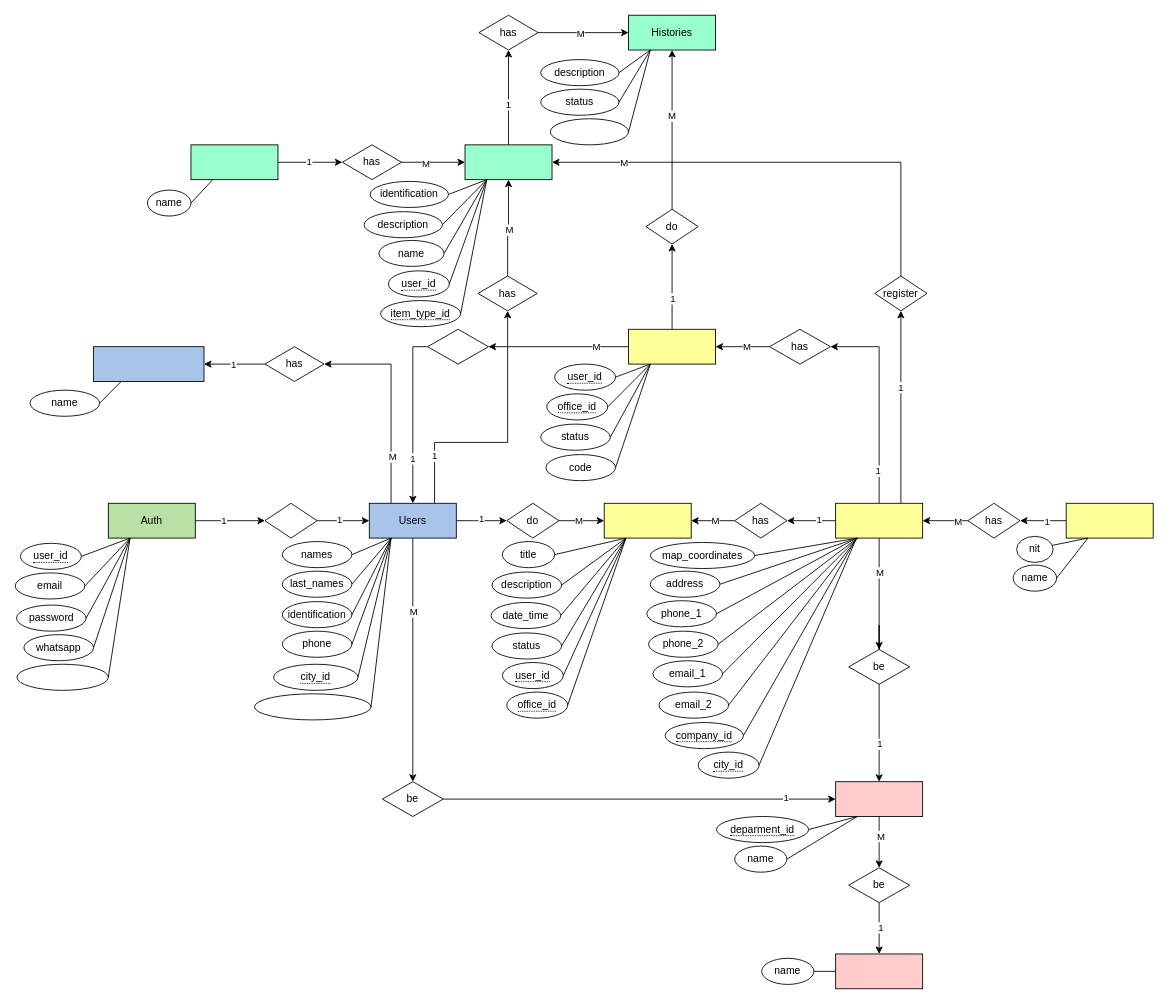
Image size: 1168x1004. Some labels were removed from this diagram. The shapes that lost their labels are listed below. From the top down, each one's centre as x and y in pixels, then its label:
(x=589, y=131): last_date
(x=234, y=162): ItemTypes
(x=508, y=162): Items
(x=148, y=363): Identification Types
(x=458, y=346): are
(x=672, y=346): Employeers
(x=290, y=520): belong
(x=647, y=520): Bookings
(x=879, y=520): Offices
(x=1109, y=520): Companies
(x=62, y=676): date_verification
(x=312, y=706): identification_type_id
(x=879, y=798): Cities
(x=879, y=971): Departments
